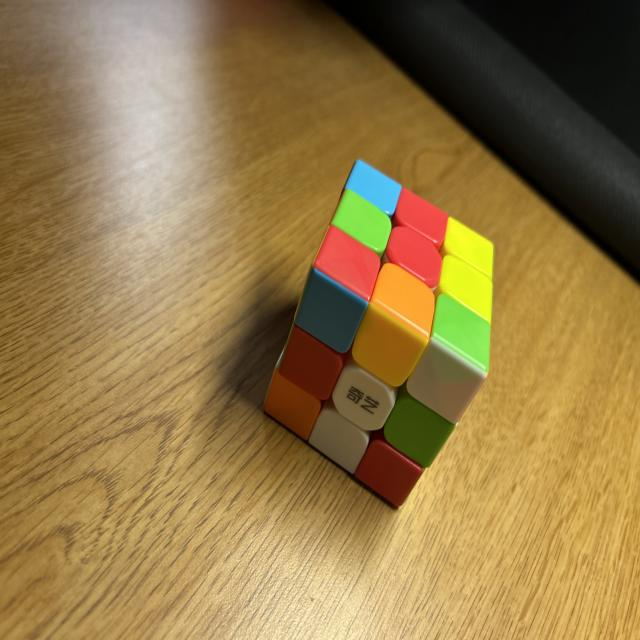Rubiks Cube: (261, 158, 493, 509)
